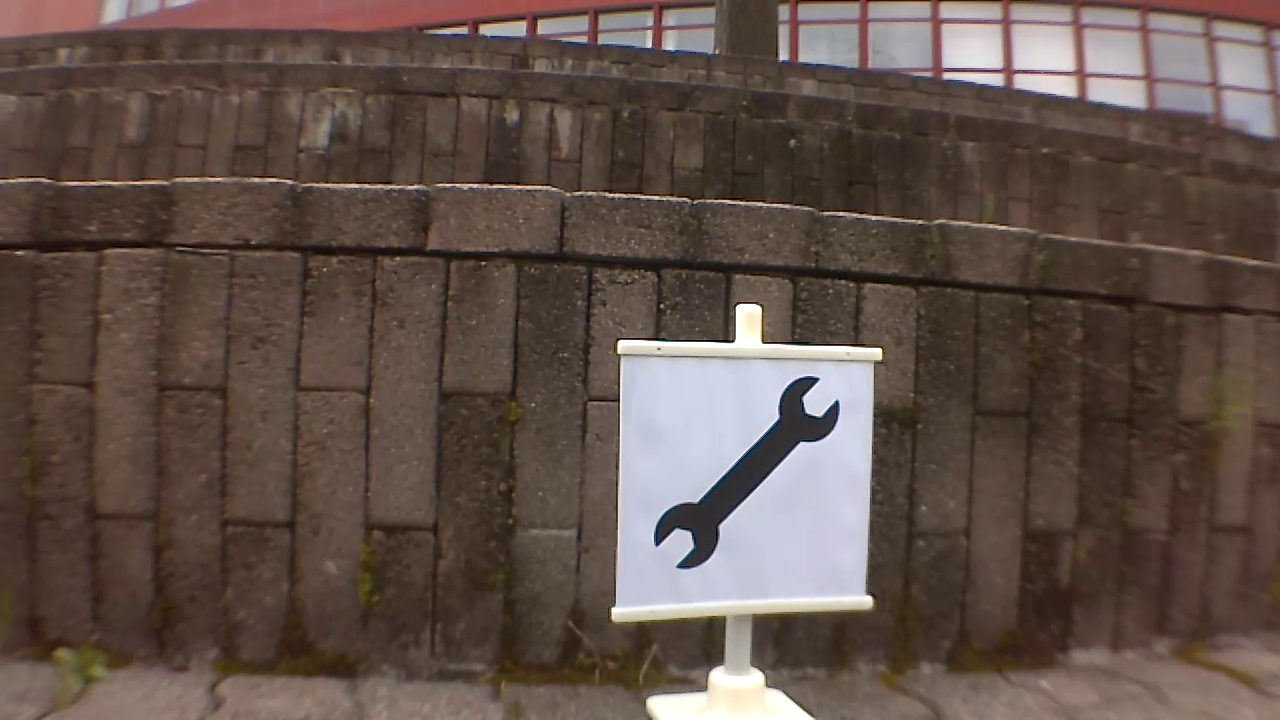wrench: (655, 375, 849, 570)
